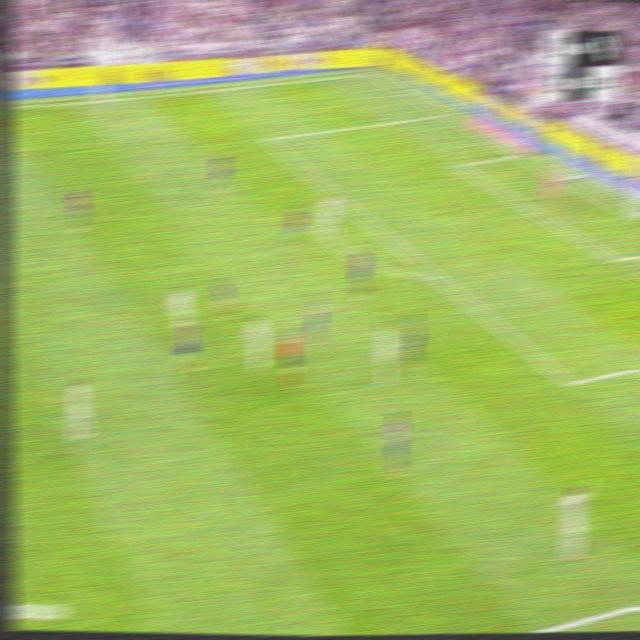bigarea_bottom_inner: (560, 369, 579, 395)
bigarea_top_inner: (260, 130, 275, 147)
bigarea_top_outter: (435, 105, 453, 121)
bottom_arc_area_intersection: (428, 267, 446, 287)
smallarea_bottom_inner: (607, 249, 625, 269)
smallarea_top_inner: (454, 158, 466, 171)
top_arc_area_intersection: (327, 186, 341, 200)
